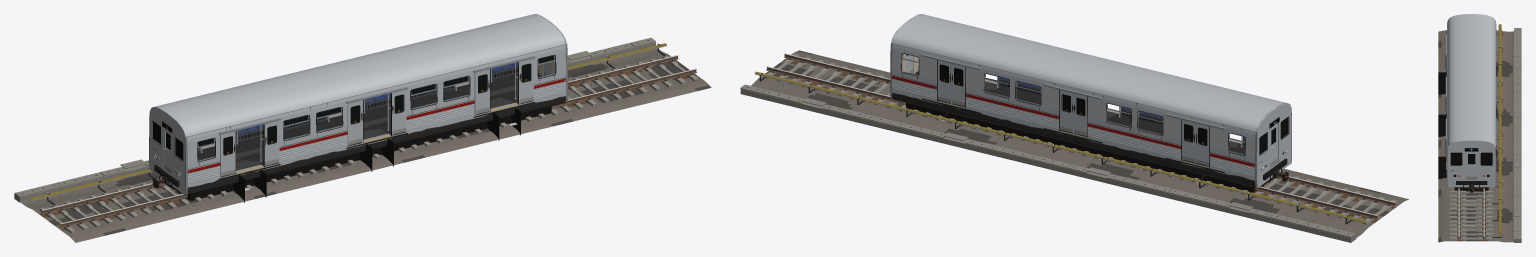
File: metro_car_903.glb
3 renders of one model, left to right at view 1: azimuth 30°, elevation 25°; view 2: azimuth 150°, elevation 25°; view 3: azimuth 270°, elevation 25°, orthographic. The views are drawn at different scales.
Parts seen in each view (by area): view 1: dach, gleis_schotter, boden, bremsstaub-1, blockseite-1, oben-1, gleis_schiene-1, unten-1_2, unten-1_1, gleis_schiene1, gleis_trog, schuerze-1 (+5 smaller); view 2: dach, gleis_schotter, gleis_trog, bremsstaub1, blockseite1, gleis_abdeckung, unten1_1, unten1_2, oben1, gleis_schiene1, gleis_schiene-1, boden (+12 smaller); view 3: dach, gleis_schotter, gleis_abdeckung, gleis_trog, stirn_p_wand9, stirn_p_wand1, stirn_p_wand2, stirn_p_wand0, stirn_p_tuer-0.360.0, stirn_p_glas0.56, gleis_schiene-1, gleis_schiene1 (+50 smaller).
Part boxes in pixels (box(x1,y1,x2,y2)): dach: box(150, 14, 566, 136); gleis_schotter: box(20, 48, 711, 242); boden: box(198, 73, 542, 165); bremsstaub-1: box(187, 96, 565, 194); blockseite-1: box(190, 106, 551, 201); oben-1: box(187, 45, 565, 141); gleis_schiene-1: box(59, 68, 696, 227); unten-1_2: box(406, 94, 474, 131); unten-1_1: box(279, 125, 347, 162); gleis_schiene1: box(41, 55, 678, 214); gleis_trog: box(14, 42, 655, 202); schuerze-1: box(187, 93, 565, 193); dach: box(891, 14, 1287, 131); gleis_schotter: box(751, 50, 1408, 237); gleis_trog: box(740, 89, 1356, 242); bremsstaub1: box(892, 93, 1255, 187); blockseite1: box(906, 102, 1252, 192); gleis_abdeckung: box(754, 71, 1366, 222); unten1_1: box(1087, 118, 1181, 160); unten1_2: box(965, 88, 1059, 130); oben1: box(892, 44, 1255, 136); gleis_schiene1: box(766, 66, 1377, 219); gleis_schiene-1: box(784, 53, 1395, 206); boden: box(914, 71, 1245, 154); dach: box(1447, 14, 1495, 147); gleis_schotter: box(1438, 30, 1513, 242); gleis_abdeckung: box(1498, 24, 1501, 235); gleis_trog: box(1514, 28, 1521, 242); stirn_p_wand9: box(1448, 141, 1495, 151); stirn_p_wand1: box(1447, 165, 1465, 180); stirn_p_wand2: box(1477, 165, 1495, 180); stirn_p_wand0: box(1447, 180, 1495, 187); stirn_p_tuer-0.360.0: box(1465, 164, 1477, 180); stirn_p_glas0.56: box(1481, 153, 1492, 165); gleis_schiene-1: box(1458, 188, 1460, 239); gleis_schiene1: box(1483, 188, 1485, 239).
Size of the model in its own units: 30.03 by 3.79 by 5.
